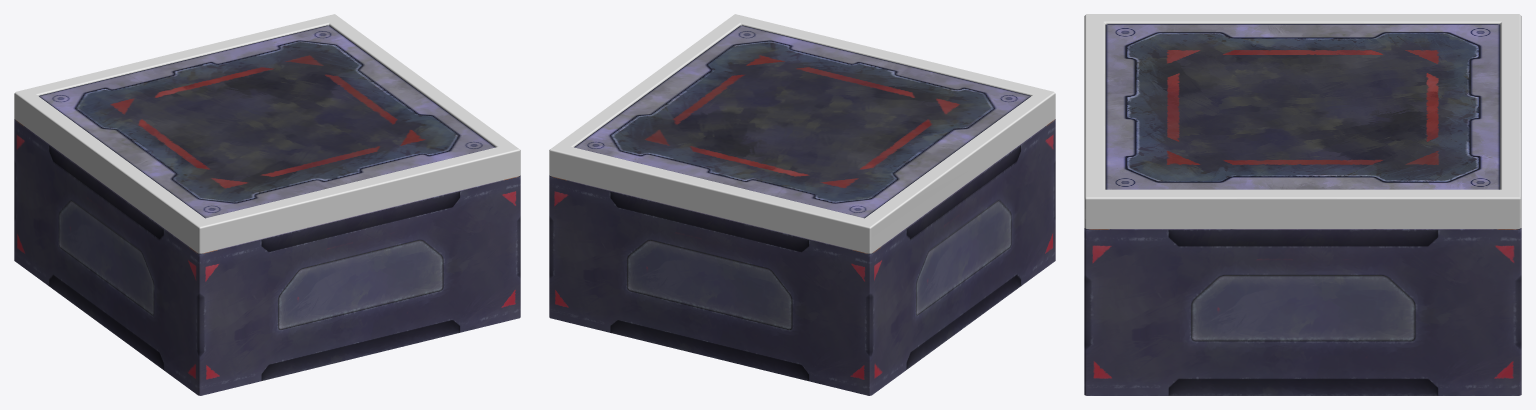
Rendered from SM_Ground.fbx.
3 renders of one model, left to right at view 1: azimuth 30°, elevation 25°; view 2: azimuth 150°, elevation 25°; view 3: azimuth 270°, elevation 25°, orthographic. The views are drawn at different scales.
Parts seen in each view (by area): view 1: SM_Ground; view 2: SM_Ground; view 3: SM_Ground.
Boxes of the visible parts, x1=… form: SM_Ground: x1=14, y1=14, x2=520, y2=395; SM_Ground: x1=549, y1=14, x2=1055, y2=395; SM_Ground: x1=1084, y1=14, x2=1521, y2=395.
Size of the model in its own units: 400 by 200 by 400.
